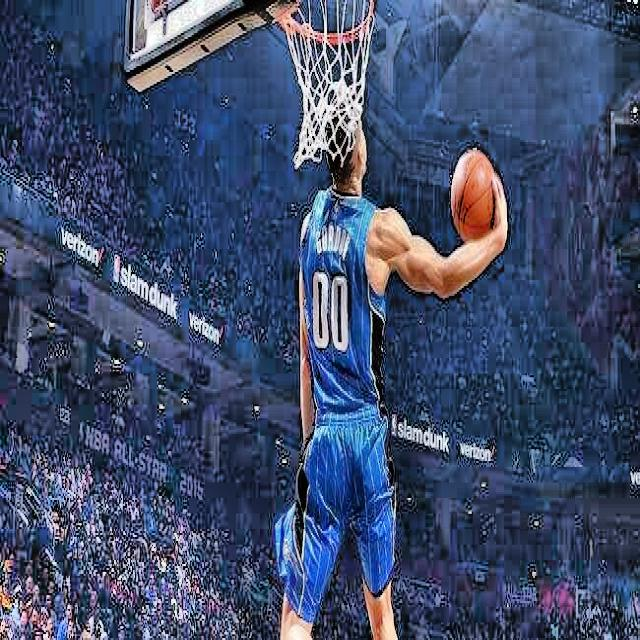board: (450, 152, 495, 241)
rim: (278, 0, 376, 163)
